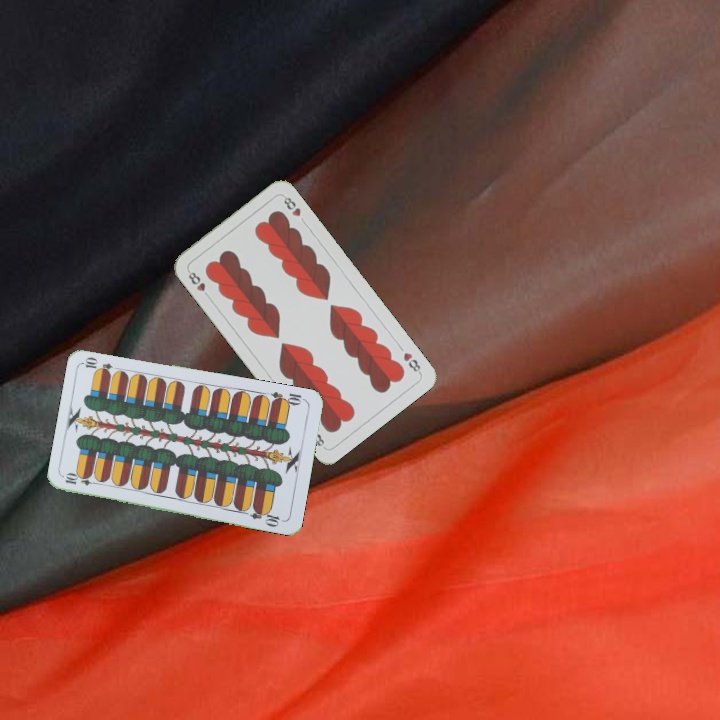E10: (267, 388, 308, 408), (61, 471, 102, 488)
H8: (184, 266, 213, 301), (399, 348, 424, 376)
